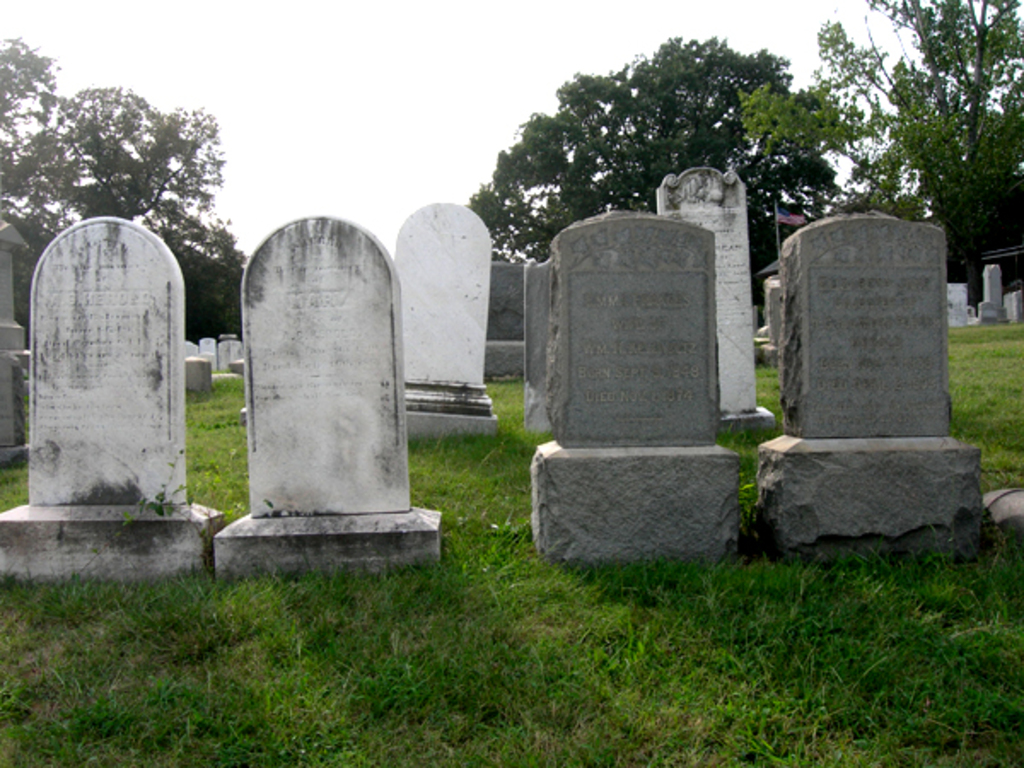Tree: (462, 29, 834, 303), (725, 0, 1022, 305), (0, 34, 250, 344)
